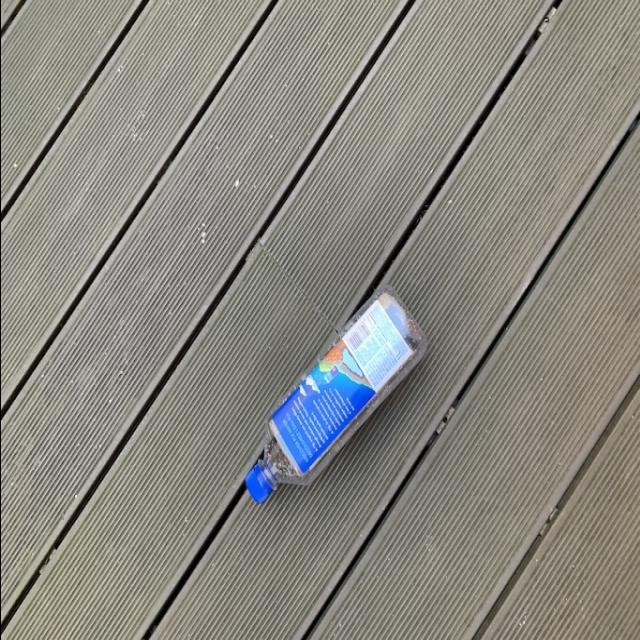litter: (240, 278, 431, 508)
